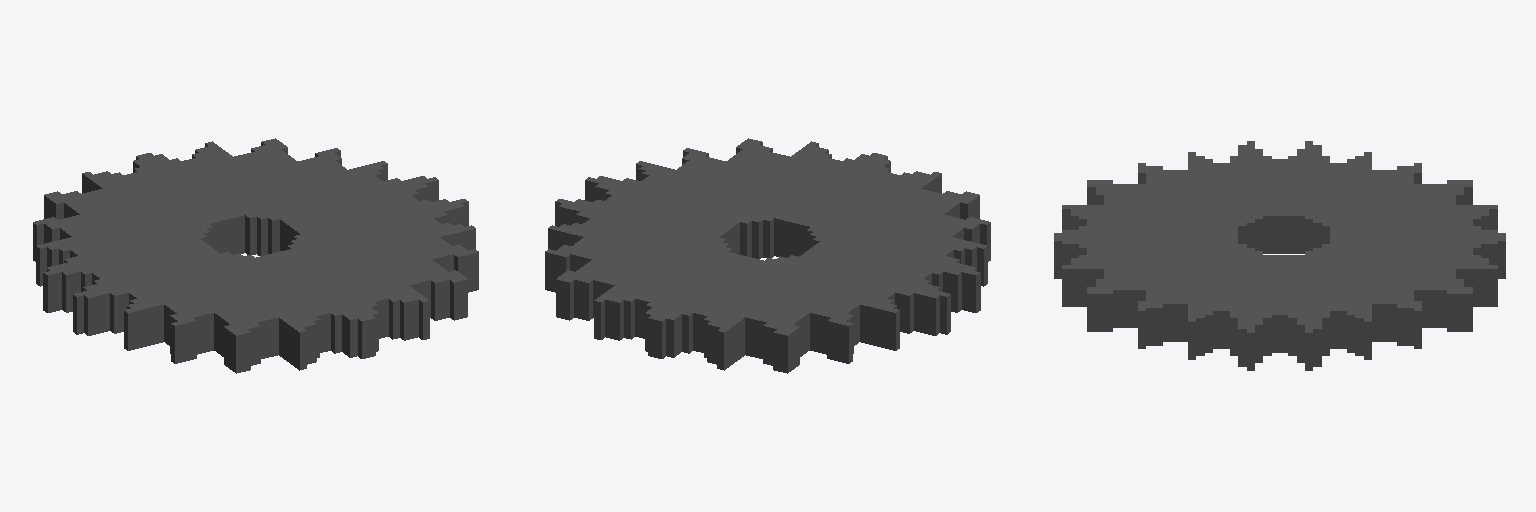
3 views of the same model, side by side, from view 1: azimuth 30°, elevation 25°; view 2: azimuth 150°, elevation 25°; view 3: azimuth 270°, elevation 25° (orthographic).
Bounding box in the file's own units: 54 × 5 × 54.
Materials: 1 (1 with a texture image).